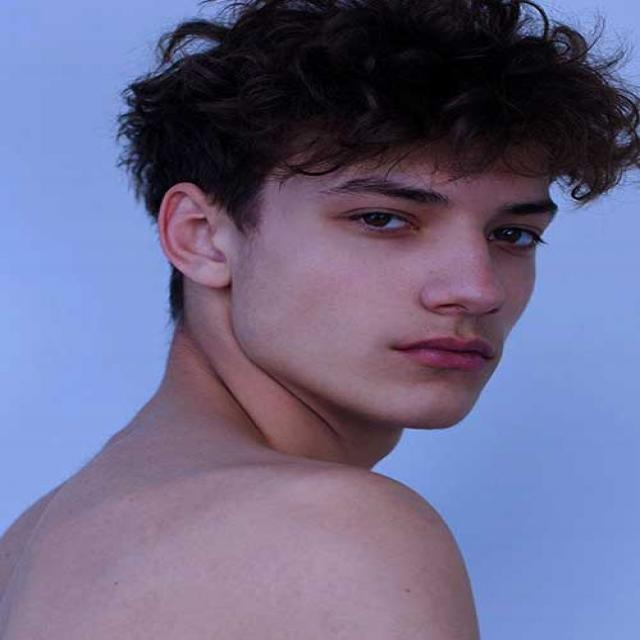earlobe: (202, 259, 230, 288)
eye: (349, 211, 417, 232), (489, 225, 537, 248)
nose: (432, 301, 506, 342)
wholeear: (158, 182, 231, 288)
